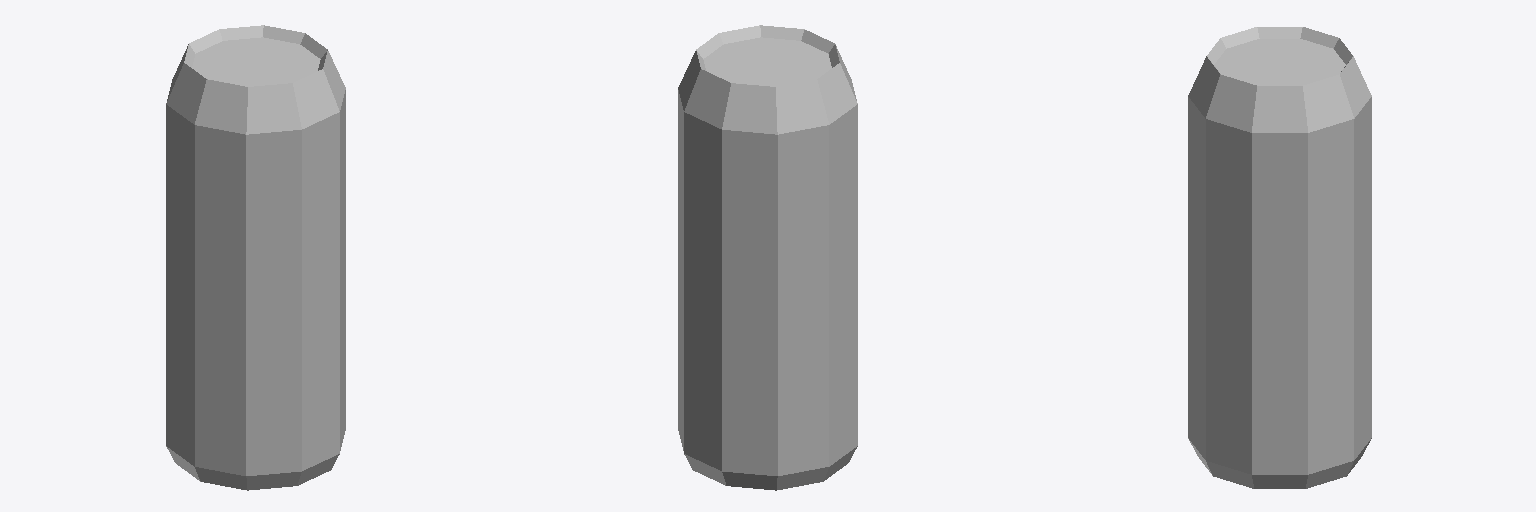
The model's file is clutter_sodacan_01.obj.
3 views of the same model, side by side, from view 1: azimuth 30°, elevation 25°; view 2: azimuth 150°, elevation 25°; view 3: azimuth 270°, elevation 25° (orthographic).
Visible parts, largest first — view 1: Cylinder_Cylinder.001; view 2: Cylinder_Cylinder.001; view 3: Cylinder_Cylinder.001.
Boxes of the visible parts, x1,y1,x2,y2 form: Cylinder_Cylinder.001: [166, 25, 345, 490]; Cylinder_Cylinder.001: [678, 25, 857, 490]; Cylinder_Cylinder.001: [1188, 27, 1371, 488].
Size of the model in its own units: 0.2378 by 0.6 by 0.25.